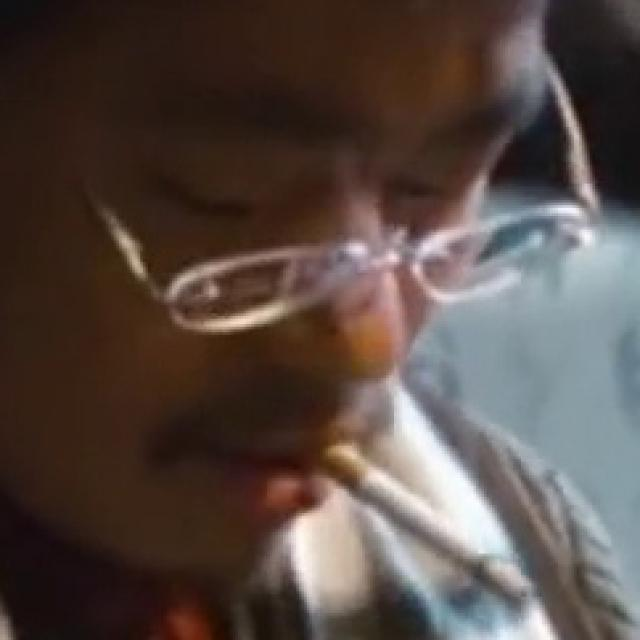smoking: (321, 440, 539, 602)
